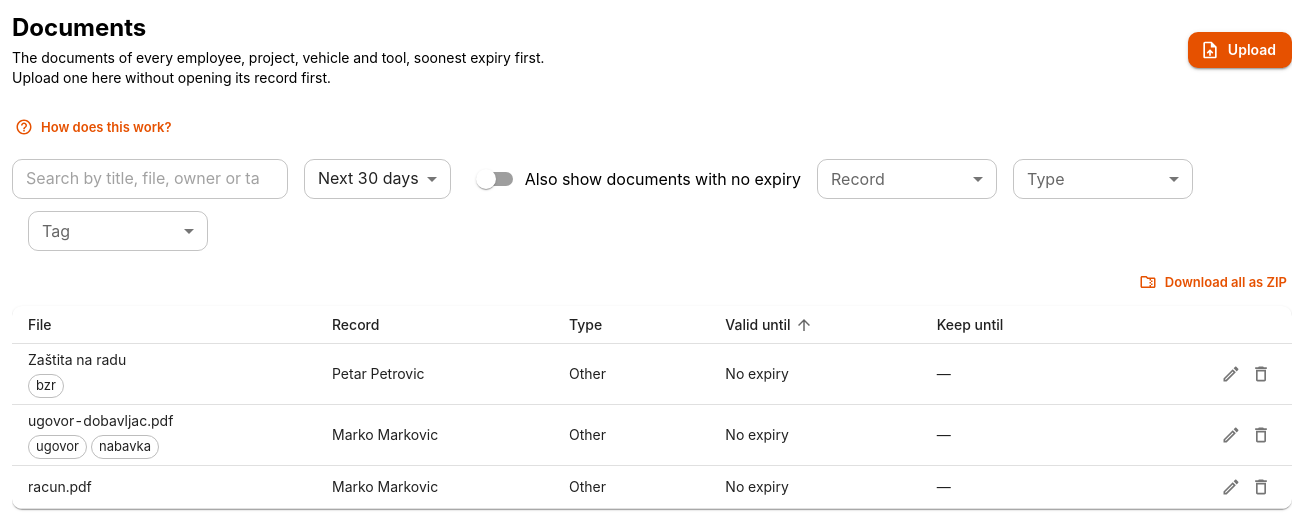
Scenario: the all-documents search › narrows the list by title, owner, note and tag, and by a chosen tag
Expected: the text "Zaštita na radu" is shown, [28,351,126,368]
Expected: the text "ugovor-dobavljac.pdf" is shown, [28,412,173,429]
Type "petrovic" into the search field with placeholder "Search by title, file, owner or tag" at point(150, 179), box [12,159,288,199]
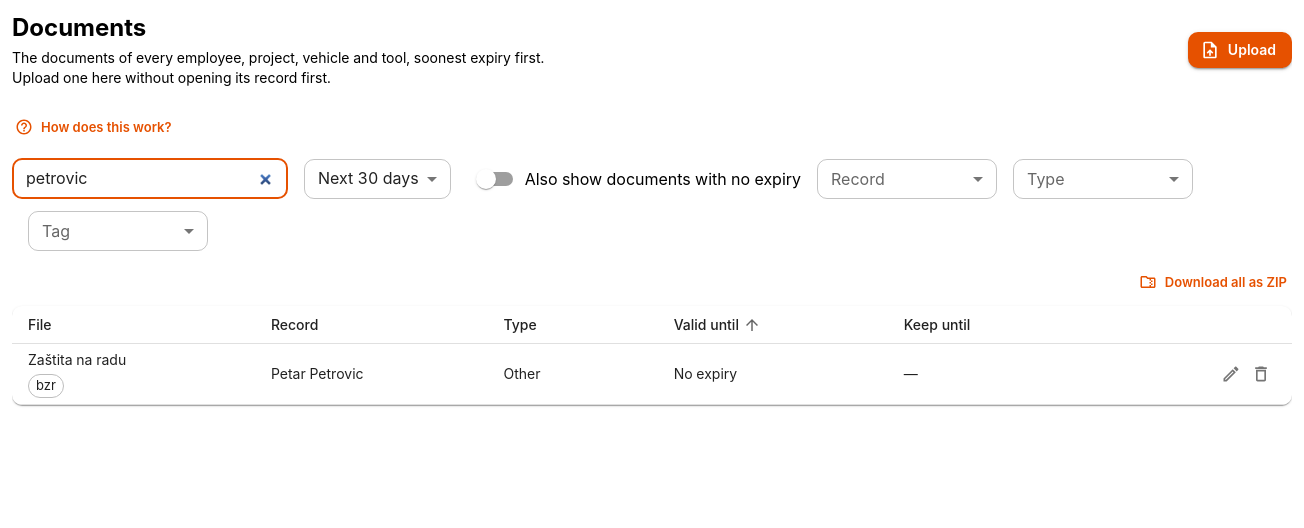
Expected: the text "Zaštita na radu" is shown, [28,351,126,368]
Expected: the text "ugovor-dobavljac.pdf" is gone
Replace the text in the search field named "Search by title, file, owner or tag" with "gorivo" at point(150, 179), box [12,159,288,199]
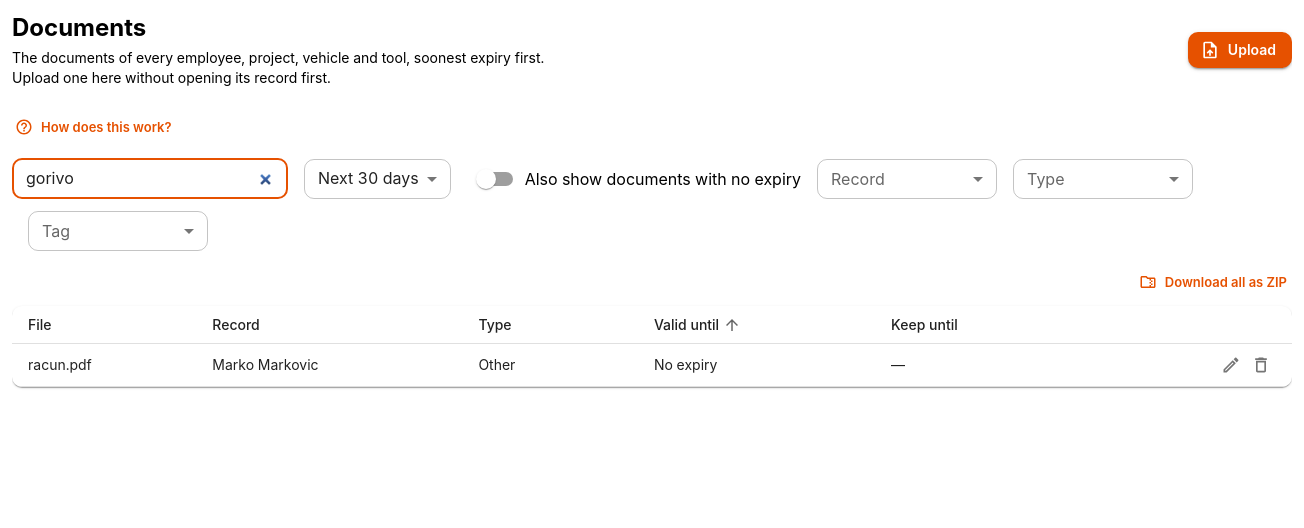
Expected: the text "racun.pdf" is shown, [12,343,196,386]
Expected: the text "Zaštita na radu" is gone
Replace the text in the search field named "Search by title, file, owner or tag" with "ugovor nabavka" at point(150, 179), box [12,159,288,199]
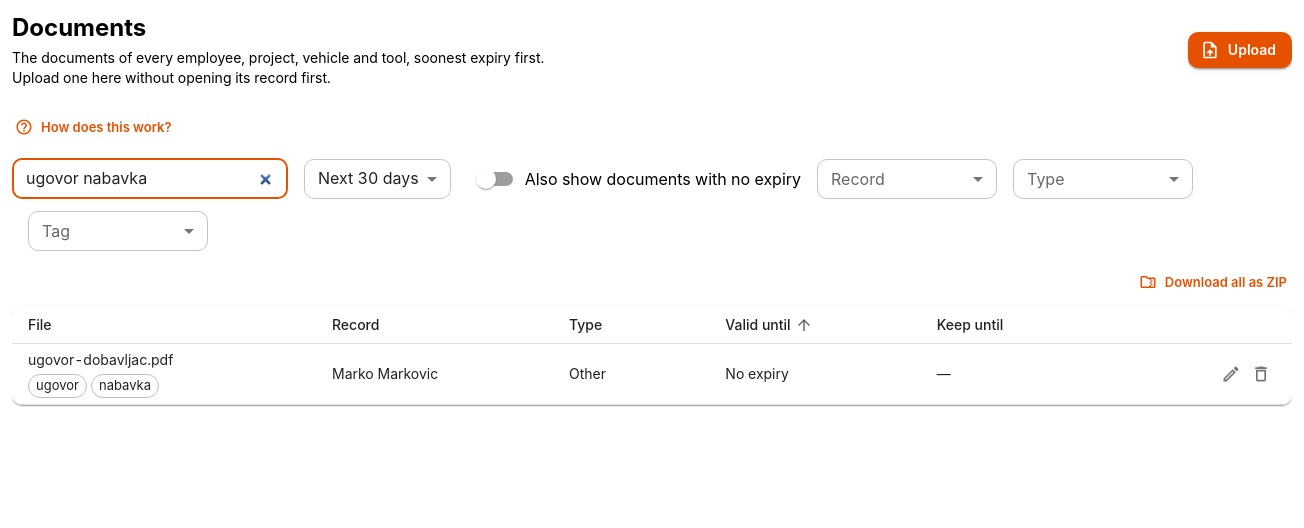
Expected: the text "racun.pdf" is not shown
Expected: the text "ugovor-dobavljac.pdf" is shown, [28,351,173,368]
Replace the text in the search field named "Search by title, file, owner or tag" with "nepostojece" at point(150, 179), box [12,159,288,199]
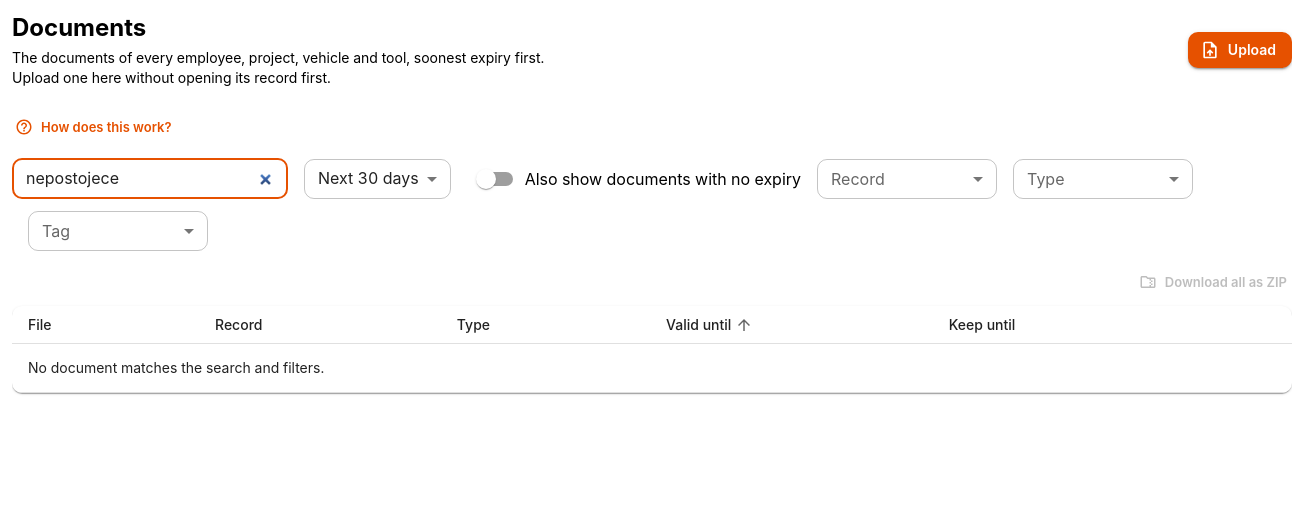
Expected: the text "No document matches the search and filters." is shown, [28,358,324,378]
